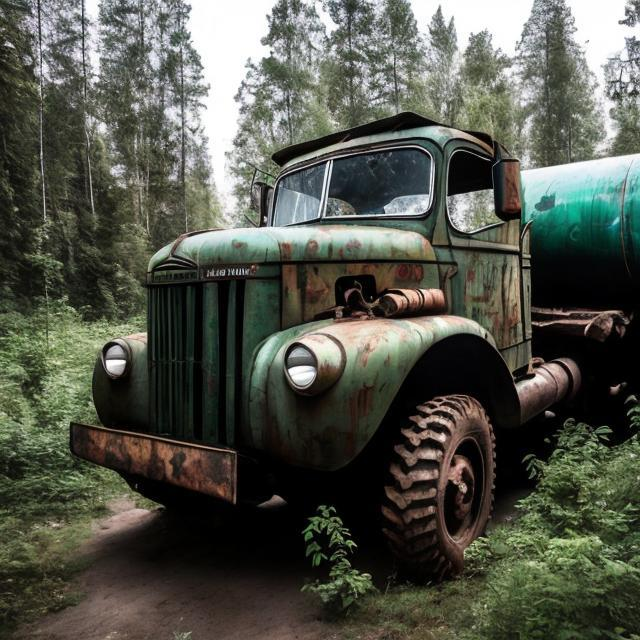Truck: (74, 121, 640, 545)
